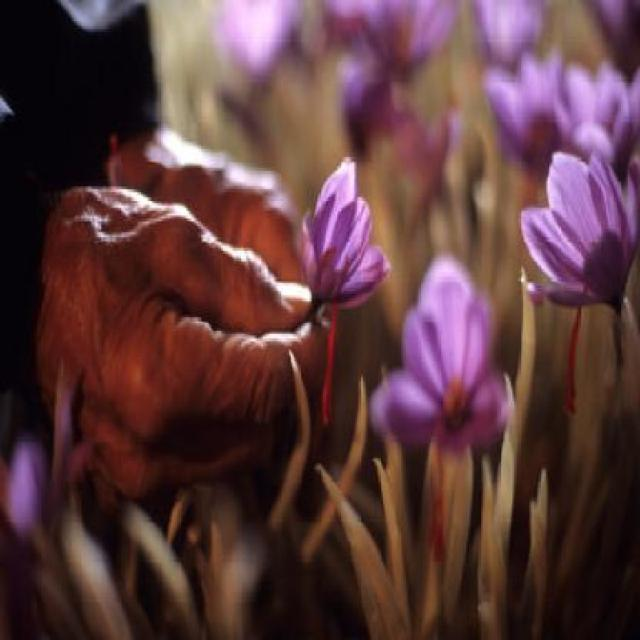Flower: (362, 255, 512, 448), (518, 149, 640, 311), (301, 157, 387, 312)
stigma: (544, 292, 591, 412), (320, 300, 346, 446)
